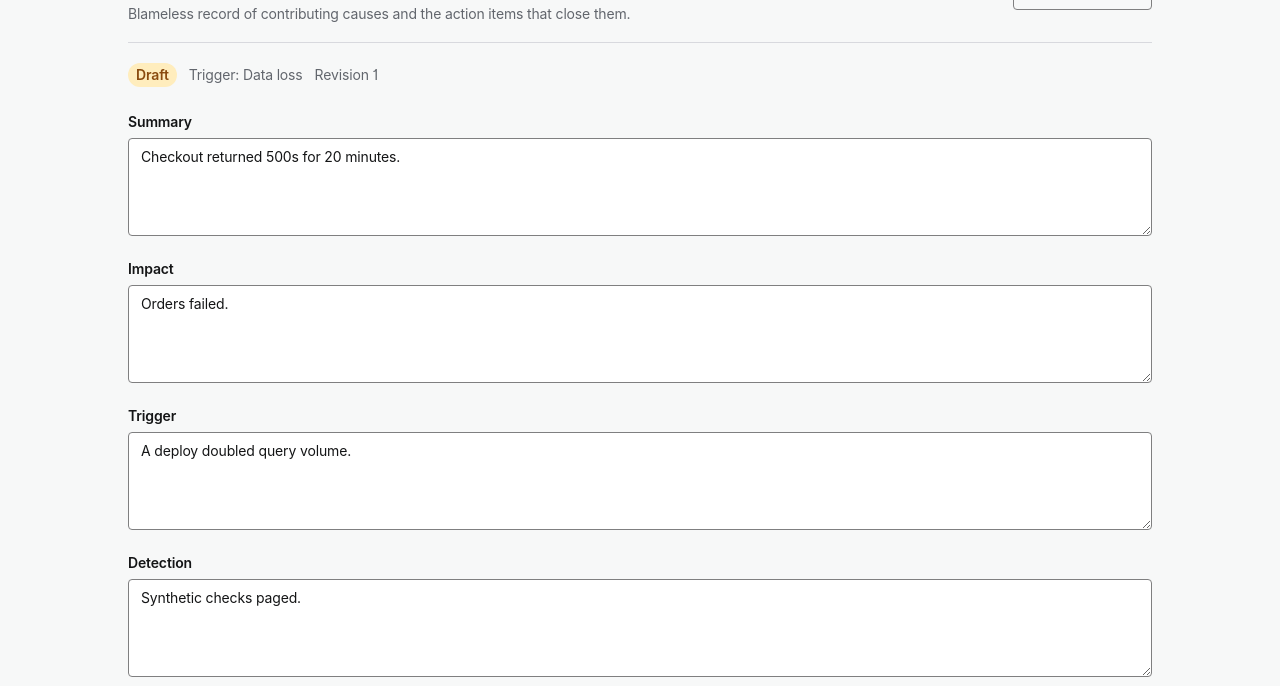
Scenario: PostmortemPage › Save sends the sections with the revision it read
Replace the text in the text box labelled "Summary" with "Edited summary." at (640, 186), box left=128, top=138, right=1152, bottom=236
(page scrolled)
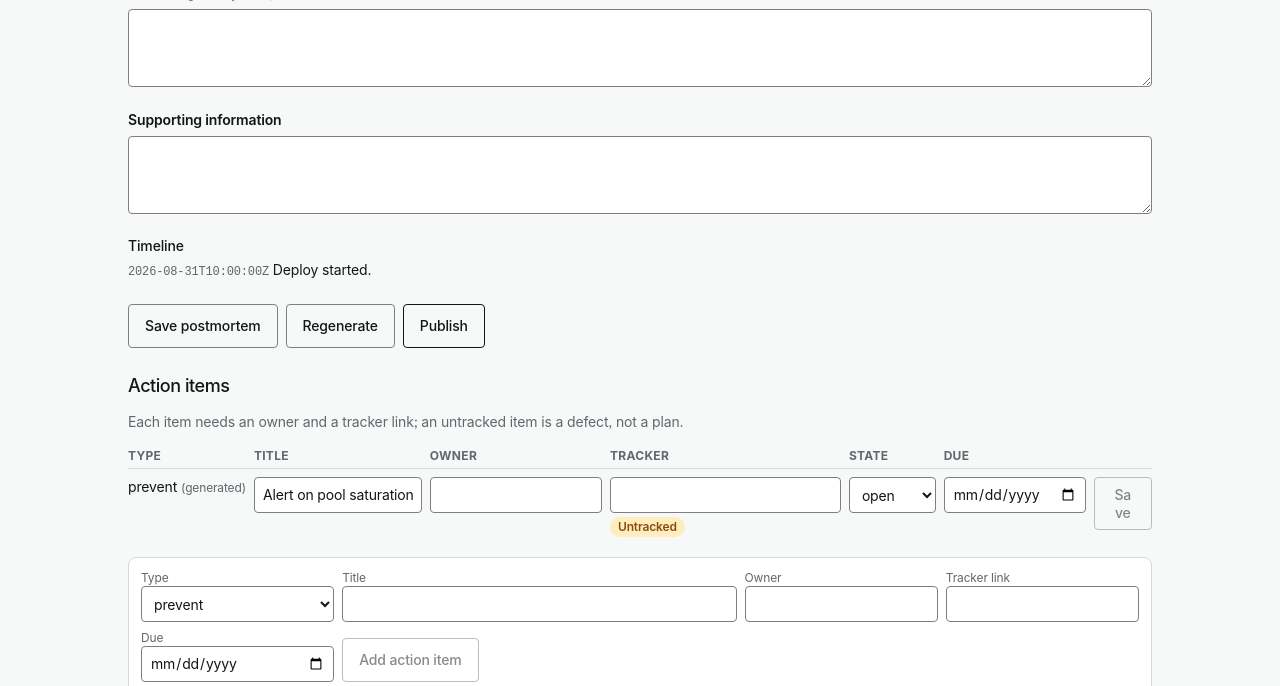
Click the button "Save postmortem" at (203, 326), box left=128, top=304, right=278, bottom=348
(page scrolled)
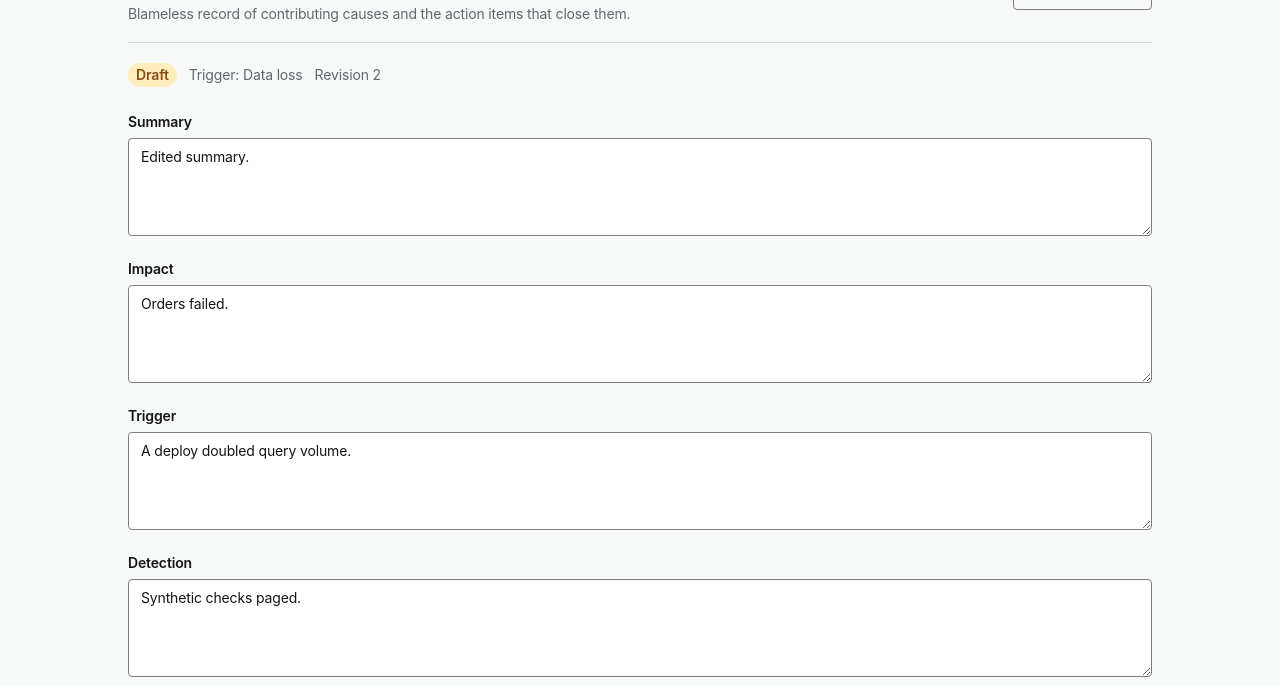
Result: the text "Revision 2" is shown at left=315, top=65, right=381, bottom=85
